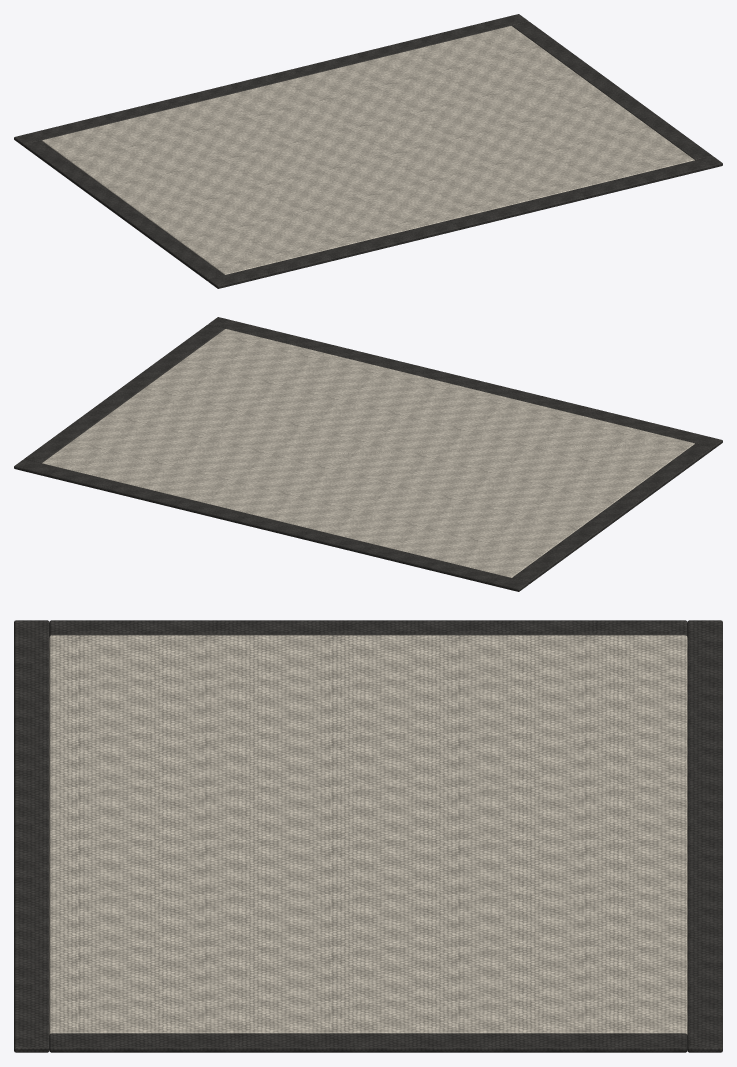
The model's file is decor-rug-living.glb.
The picture shows the model from 3 angles, top to bottom: view 1: azimuth 30°, elevation 25°; view 2: azimuth 150°, elevation 25°; view 3: azimuth 270°, elevation 25°; orthographic projection. The views are drawn at different scales.
Size of the model in its own units: 2 by 0.012 by 1.4.
2 materials, 2 textured.
